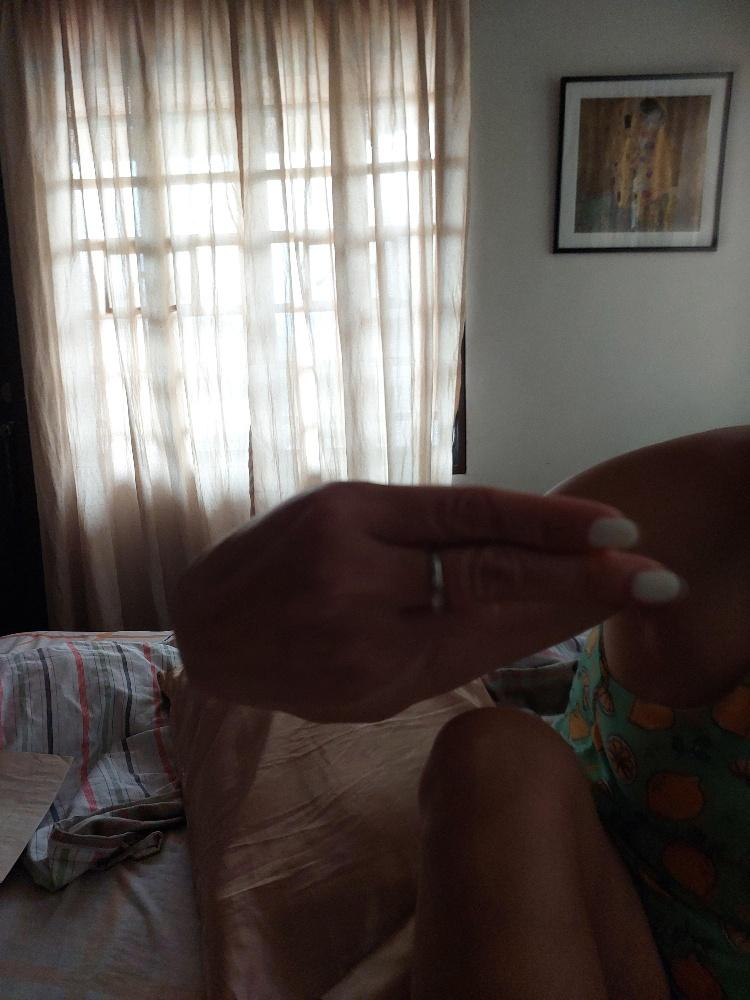h: (160, 476, 684, 726)
